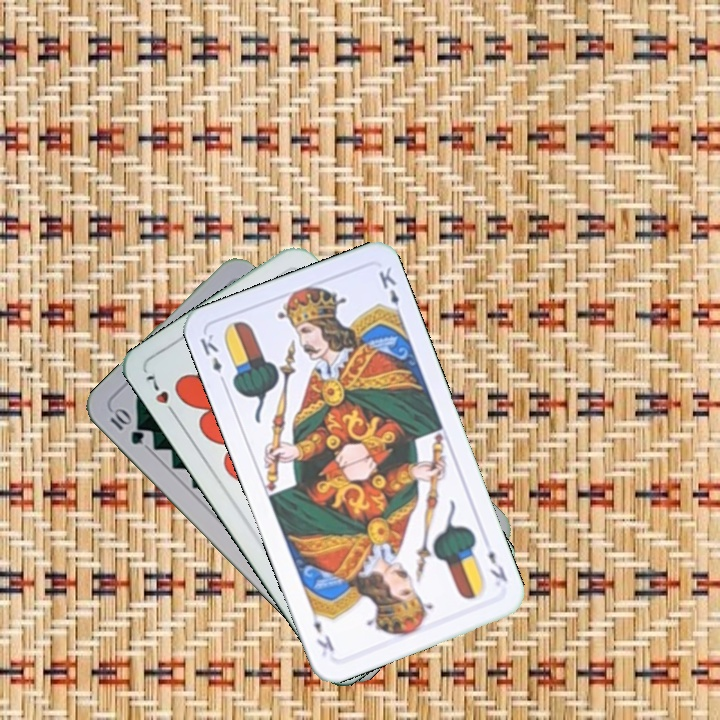EK: (195, 329, 229, 388), (484, 546, 511, 585)
G10: (105, 403, 147, 448)
H7: (142, 371, 180, 421)
